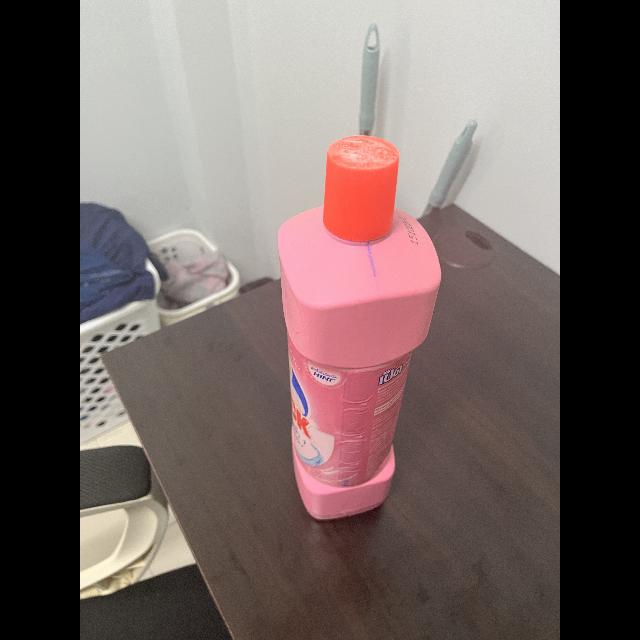chemical_plastic_bottle: (272, 127, 443, 523)
